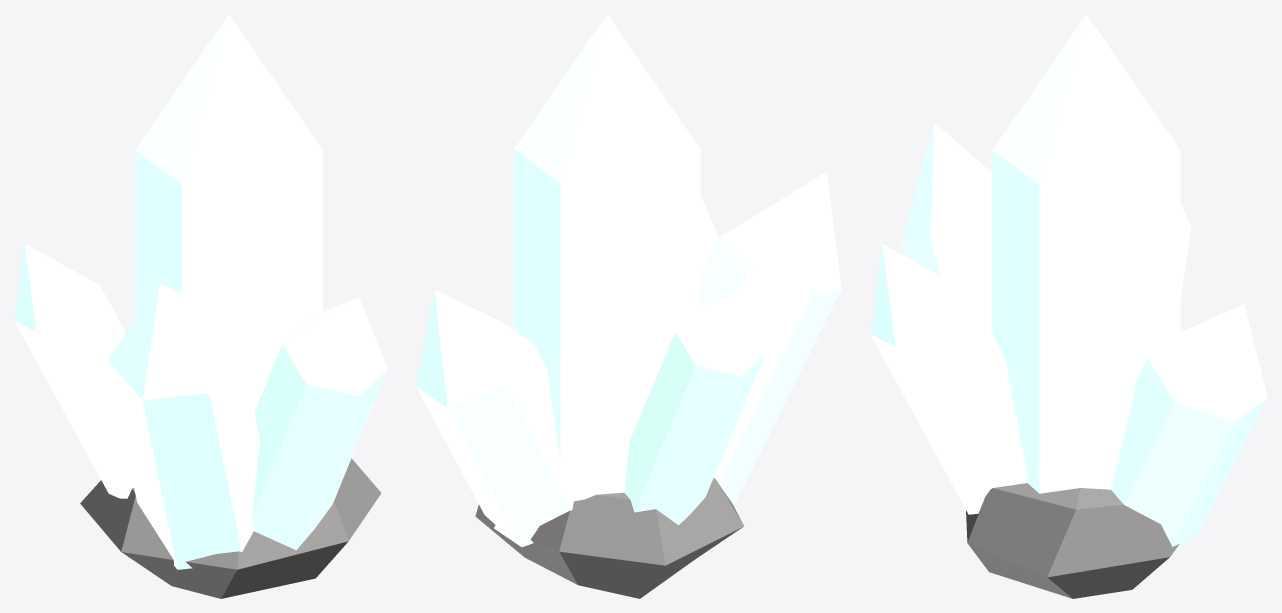
Rendered from arena_gem_green.glb.
3 views of the same model, side by side, from view 1: azimuth 30°, elevation 25°; view 2: azimuth 150°, elevation 25°; view 3: azimuth 270°, elevation 25° (orthographic).
Parts seen in each view (by area): view 1: arena_gem_green; view 2: arena_gem_green; view 3: arena_gem_green.
Boxes of the visible parts, x1,y1,x2,y2 form: arena_gem_green: (14, 14, 387, 598); arena_gem_green: (416, 14, 841, 598); arena_gem_green: (870, 14, 1267, 598).
Bounding box in the file's own units: 1.22 × 2.12 × 1.35.
